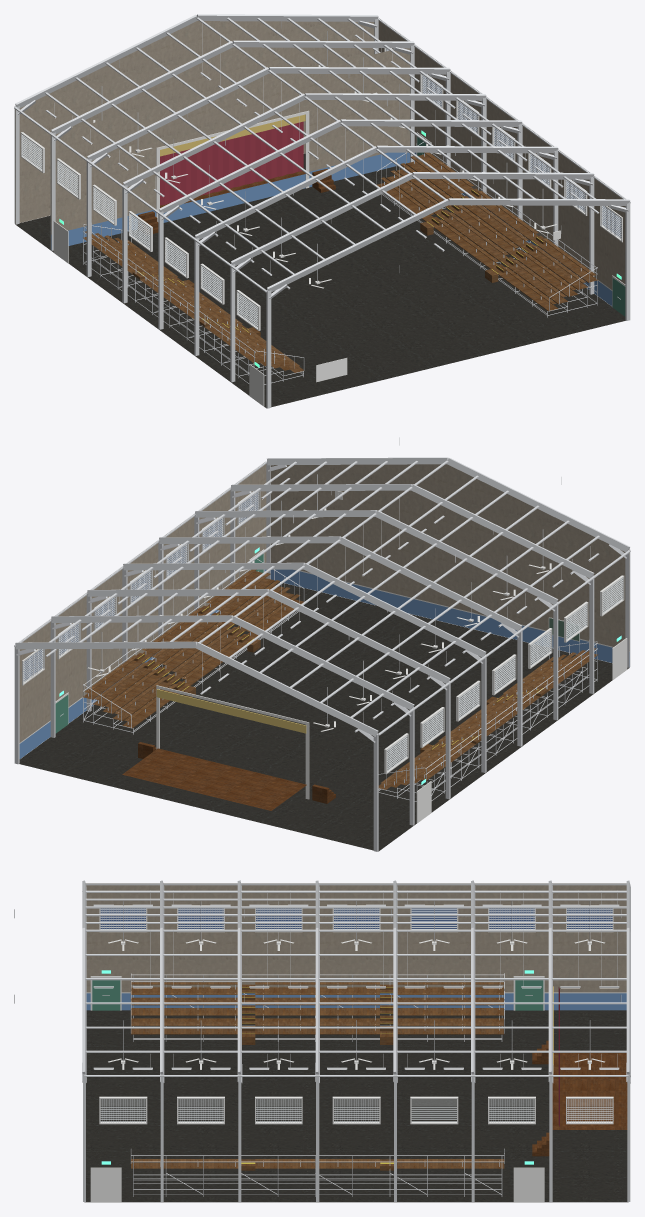
File: volleyball_hall.glb
3 renders of one model, top to bottom at view 1: azimuth 30°, elevation 25°; view 2: azimuth 150°, elevation 25°; view 3: azimuth 270°, elevation 25°, orthographic. The views are drawn at different scales.
Visible parts, largest first — view 1: Floor, Plaster, Frame, Deck.001, Plank.001, Curtain, Trim, Louvre, Dado, Stage, Valance, Fan (+1 smaller); view 2: Floor, Frame, Plaster, Deck.001, Plank.001, Stage, Trim, Louvre, Dado, Valance, Fan, Night; view 3: Floor, Frame, Plaster, Deck.001, Louvre, Trim, Stage, Plank.001, Night, Dado, Door, Fan (+1 smaller).
Part boxes in pixels (x1=…): Floor: x1=15, y1=153, x2=625, y2=408; Plaster: x1=15, y1=19, x2=625, y2=289; Frame: x1=14, y1=14, x2=630, y2=408; Deck.001: x1=83, y1=154, x2=597, y2=372; Plank.001: x1=85, y1=152, x2=595, y2=366; Curtain: x1=160, y1=121, x2=303, y2=205; Trim: x1=20, y1=48, x2=625, y2=406; Louvre: x1=21, y1=48, x2=621, y2=327; Dado: x1=51, y1=152, x2=612, y2=306; Stage: x1=138, y1=169, x2=335, y2=234; Valance: x1=160, y1=114, x2=305, y2=156; Fan: x1=93, y1=65, x2=556, y2=288; Floor: x1=19, y1=581, x2=629, y2=851; Frame: x1=14, y1=437, x2=630, y2=851; Plaster: x1=19, y1=463, x2=629, y2=742; Deck.001: x1=82, y1=571, x2=597, y2=789; Plank.001: x1=85, y1=569, x2=595, y2=783; Stage: x1=122, y1=742, x2=335, y2=810; Trim: x1=19, y1=491, x2=629, y2=823; Louvre: x1=23, y1=491, x2=623, y2=771; Dado: x1=19, y1=569, x2=629, y2=758; Valance: x1=156, y1=689, x2=306, y2=733; Fan: x1=88, y1=508, x2=551, y2=731; Night: x1=23, y1=493, x2=257, y2=680; Floor: x1=84, y1=1010, x2=628, y2=1202; Frame: x1=14, y1=880, x2=630, y2=1201; Plaster: x1=86, y1=883, x2=626, y2=992; Deck.001: x1=131, y1=984, x2=504, y2=1170; Louvre: x1=100, y1=909, x2=612, y2=1121; Trim: x1=86, y1=905, x2=626, y2=1202; Stage: x1=532, y1=1040, x2=627, y2=1156; Plank.001: x1=131, y1=982, x2=504, y2=1161; Night: x1=100, y1=908, x2=612, y2=928; Dado: x1=86, y1=993, x2=626, y2=1010; Door: x1=92, y1=980, x2=543, y2=1010; Fan: x1=108, y1=939, x2=604, y2=1069.
Size of the model in its own units: 29.38 by 12.71 by 39.67.
20 materials, 6 textured.
